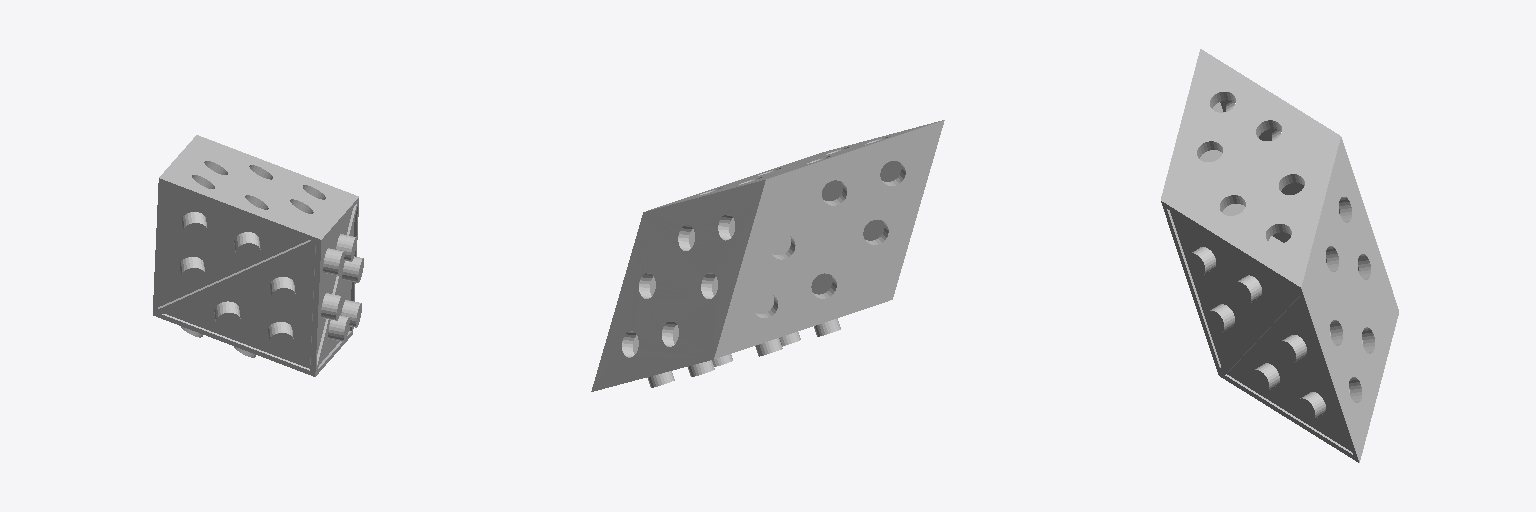
File: peggy.obj
The picture shows the model from 3 angles: view 1: azimuth 30°, elevation 25°; view 2: azimuth 150°, elevation 25°; view 3: azimuth 270°, elevation 25°; orthographic projection.
Parts seen in each view (by area): view 1: Mesh1 Model; view 2: Mesh1 Model; view 3: Mesh1 Model.
Boxes of the visible parts, <box> form: Mesh1 Model: <box>153,135,363,376</box>; Mesh1 Model: <box>591,120,944,391</box>; Mesh1 Model: <box>1161,49,1398,462</box>.
Size of the model in its own units: 119 by 116 by 89.51.